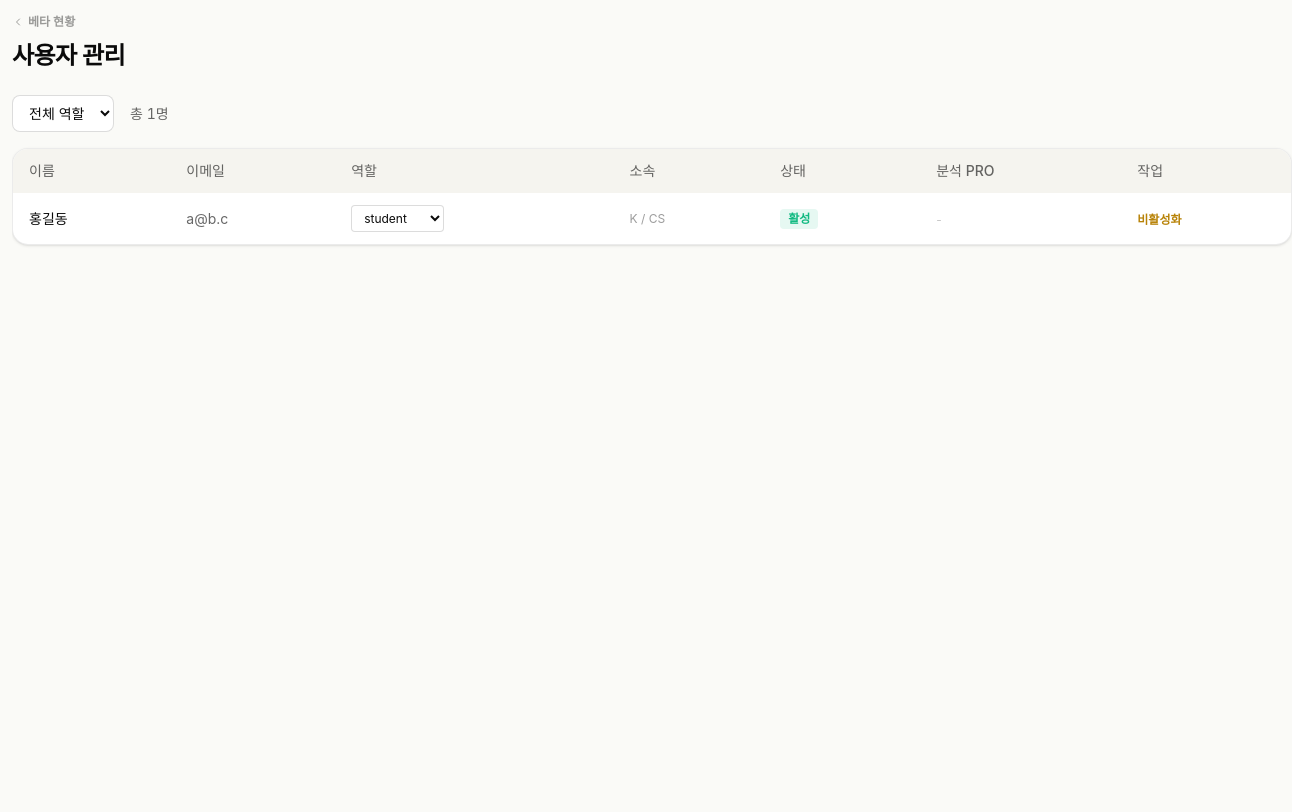
Test: AdminUsersPage › shows success toast on successful active toggle
Check: the text "a@b.c" is shown, box [170,193,335,244]
Click the button "비활성화". click: x=1159, y=220
box: [1137,212,1182,228]
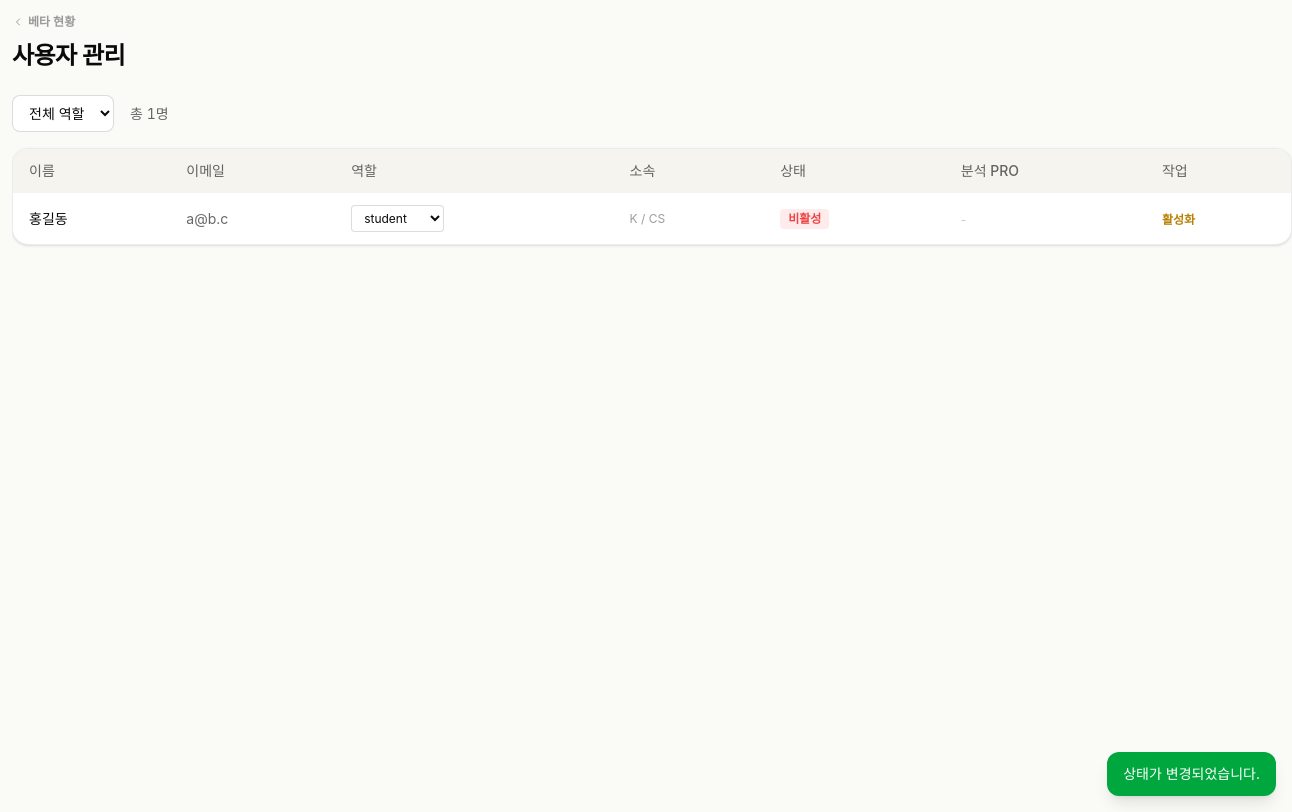
Check: the text "상태가 변경되었습니다." is shown, box [1107,752,1276,796]
